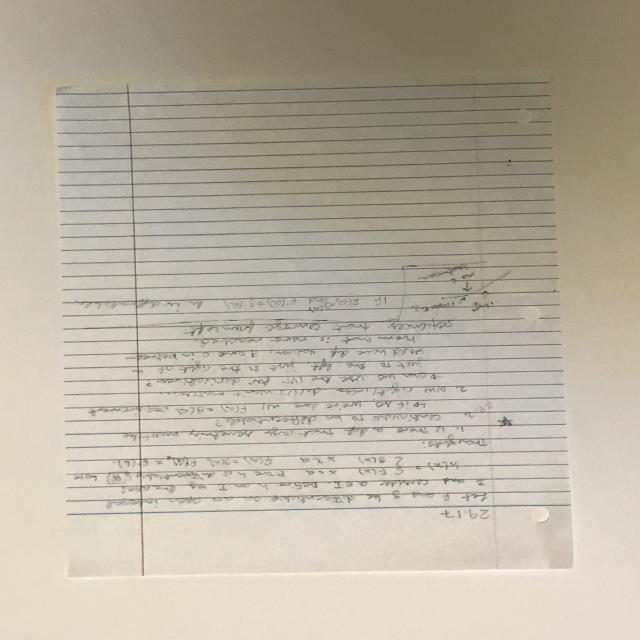paper: (40, 54, 588, 610)
